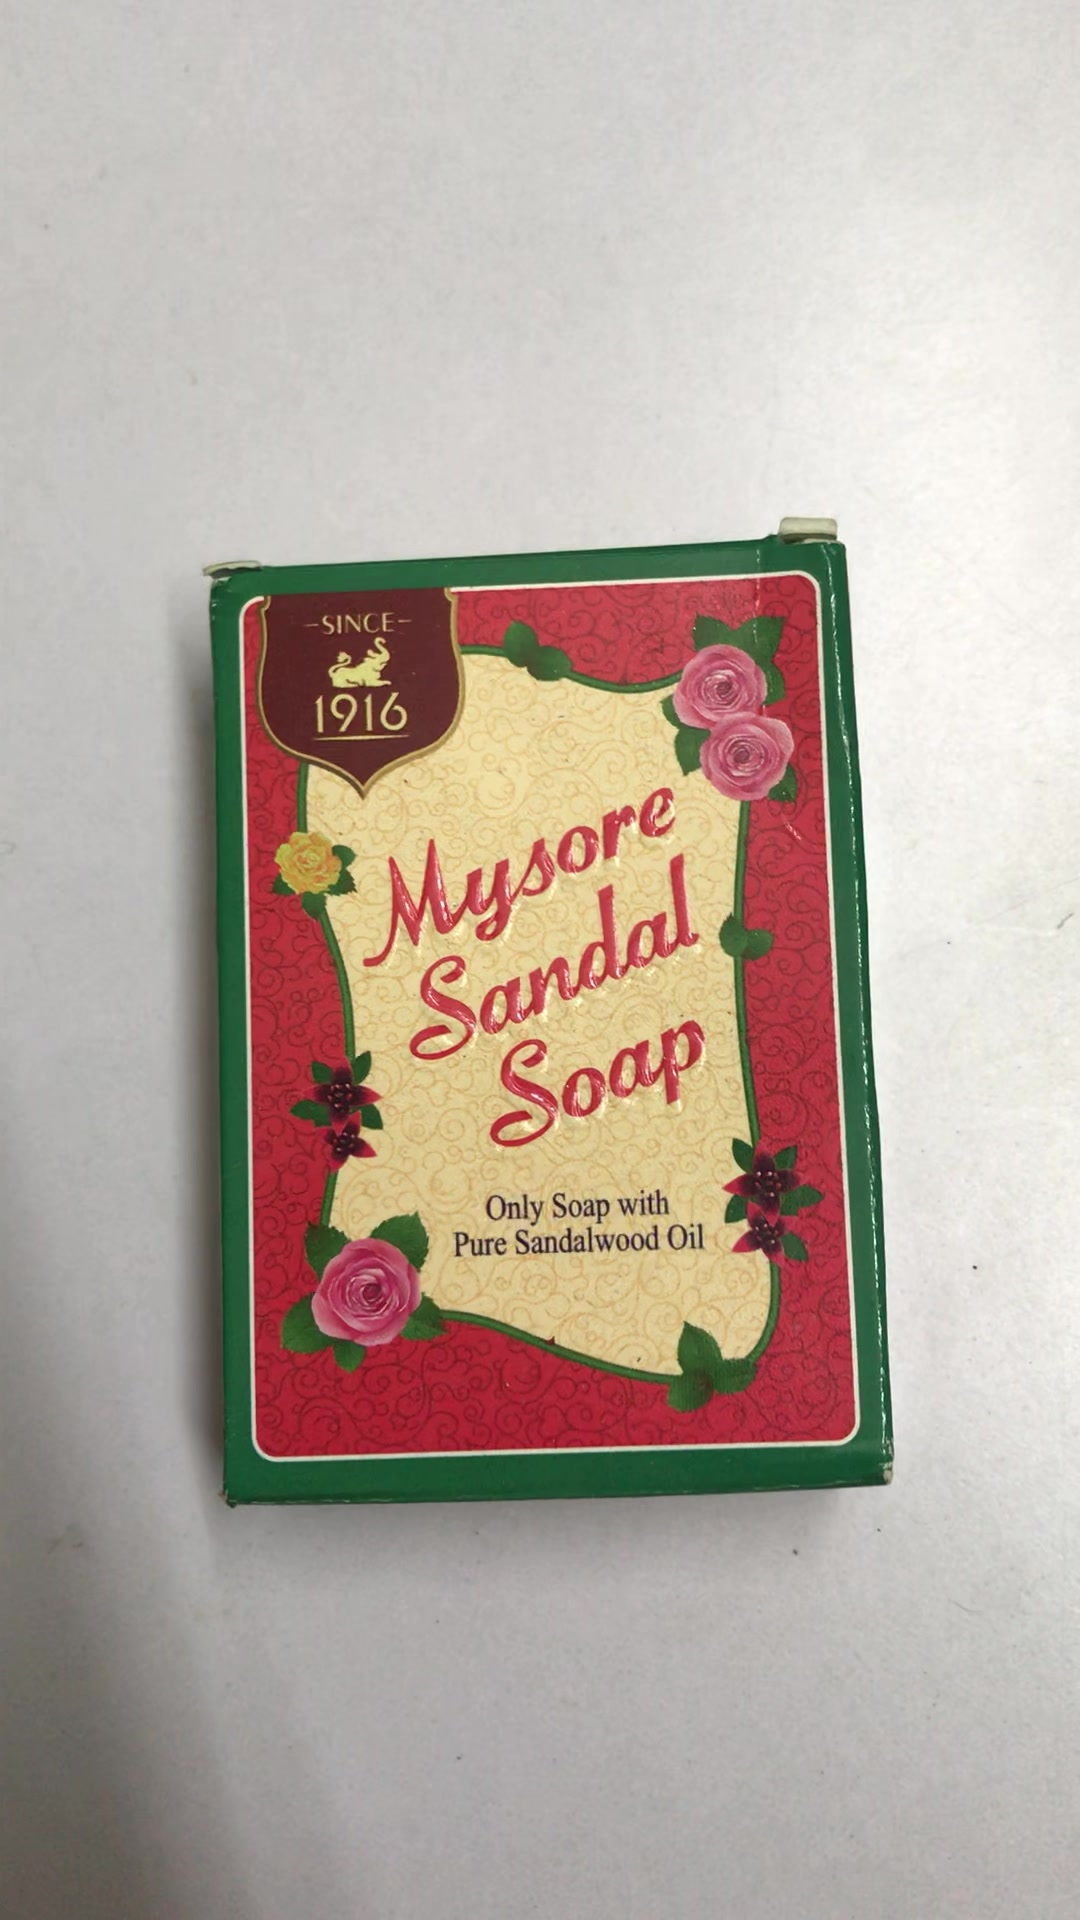mysore sandal soap: (218, 554, 887, 1494)
